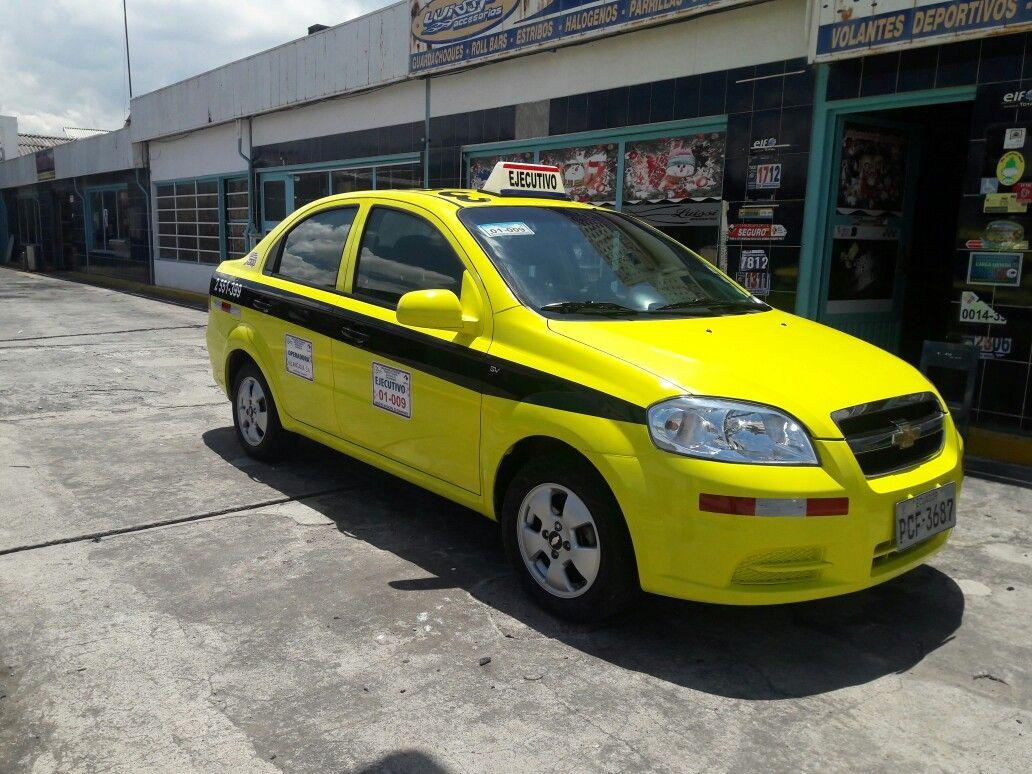taxi: (185, 144, 993, 654)
